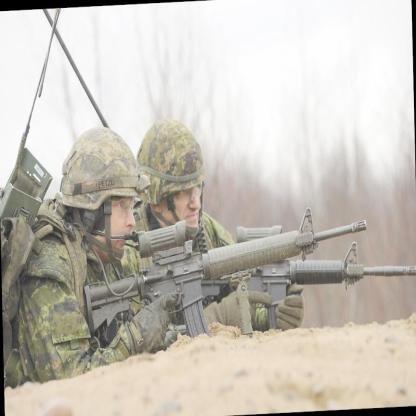rifle: (85, 221, 369, 353)
